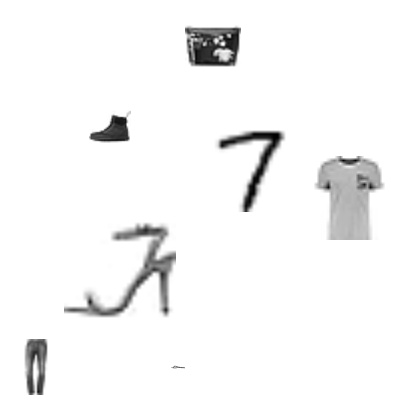7: (196, 100, 308, 212)
Ankle_boot: (89, 105, 131, 147)
Bag: (185, 18, 241, 74), (130, 235, 144, 249)
Sandal: (64, 212, 176, 324), (171, 360, 185, 374)
T-shirt/top: (306, 156, 390, 240)
Trouser: (7, 339, 63, 395)
